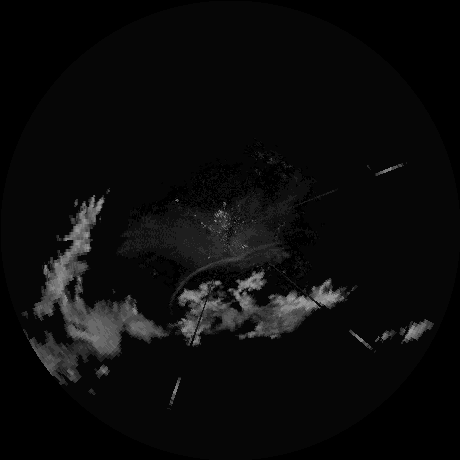frontgust: (174, 241, 275, 295)
